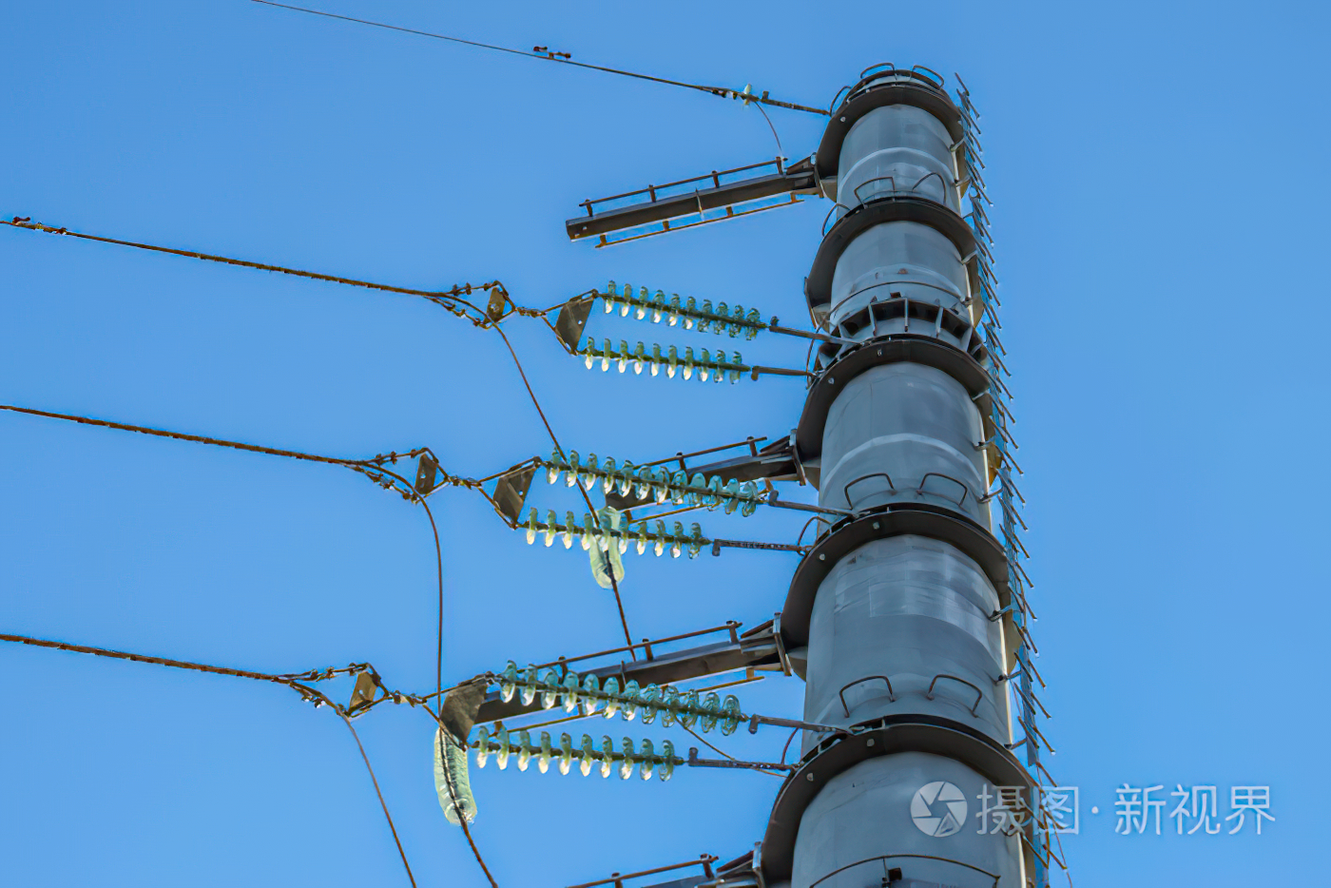insulator: (492, 661, 743, 739), (544, 447, 759, 521), (472, 725, 681, 787), (600, 282, 762, 341), (521, 508, 707, 559), (581, 336, 745, 392), (431, 718, 478, 825), (588, 540, 624, 593)
